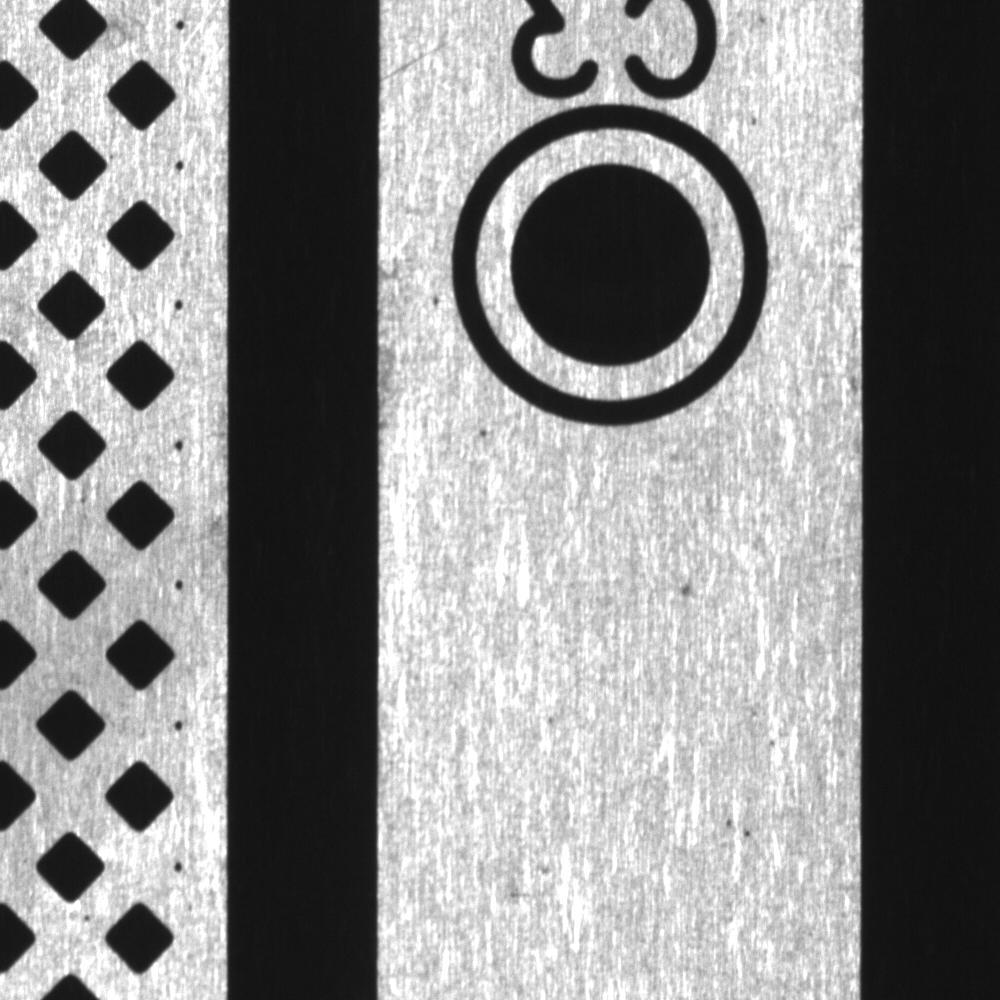Etching: (663, 567, 709, 606), (419, 279, 450, 320), (740, 102, 769, 135)
Pinhole: (531, 702, 568, 735), (468, 415, 500, 450), (737, 819, 763, 846), (763, 728, 784, 757)
Scar: (381, 11, 486, 96)
